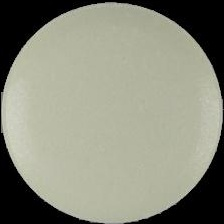68180-501: (0, 0, 224, 224)
